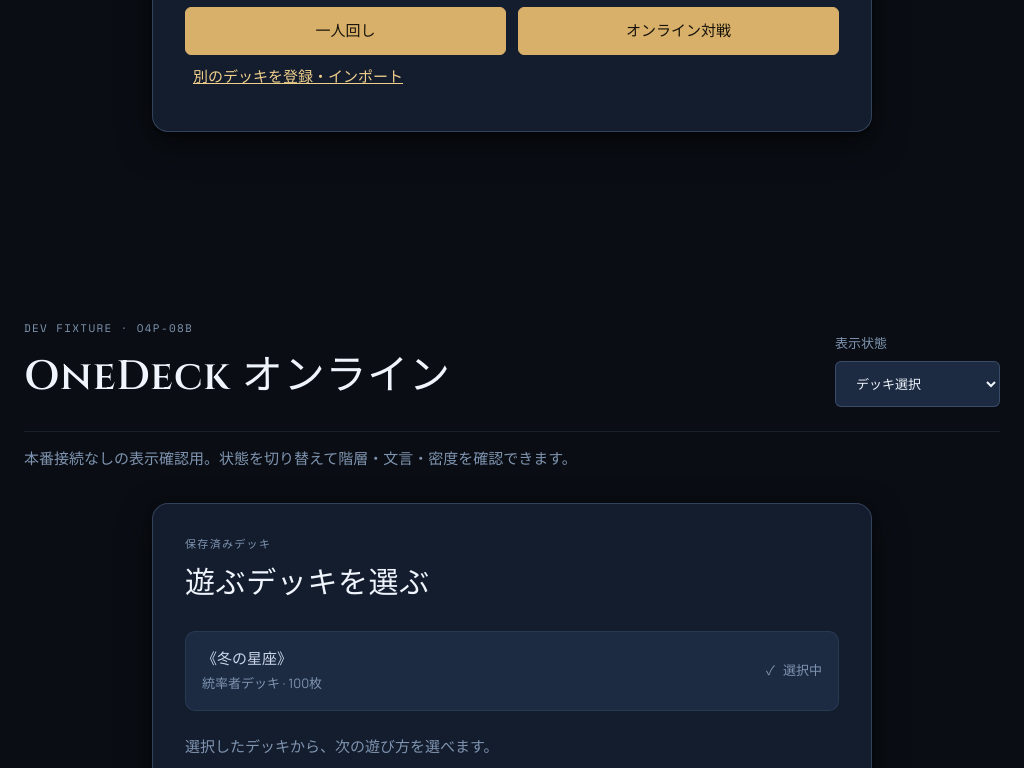
Test: O4P-08B disconnected online lobby prototype › exposes current step, exact blockers, and host controls
(page scrolled)
Select "ホストロビー" in the dropdown labelled "表示状態" at (918, 384), box [835,361,1000,407]
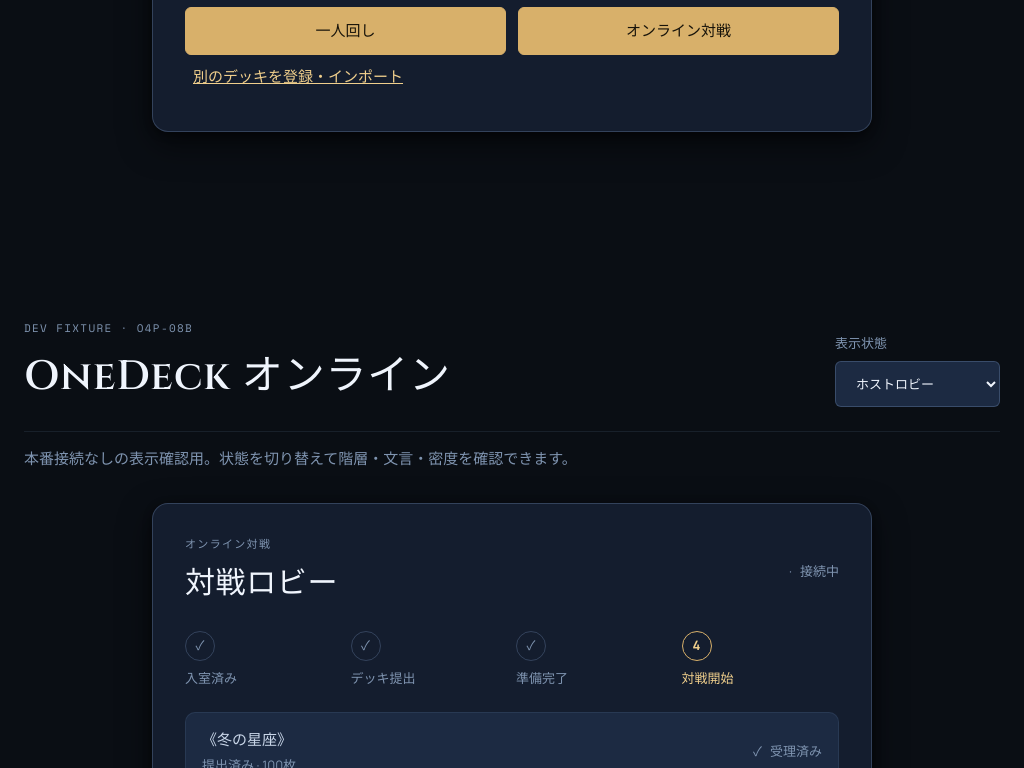
Expected: the list item "4 対戦開始" is shown, [682,631,734,687]
Expected: the text "受理済み" is shown, [770,742,822,760]
